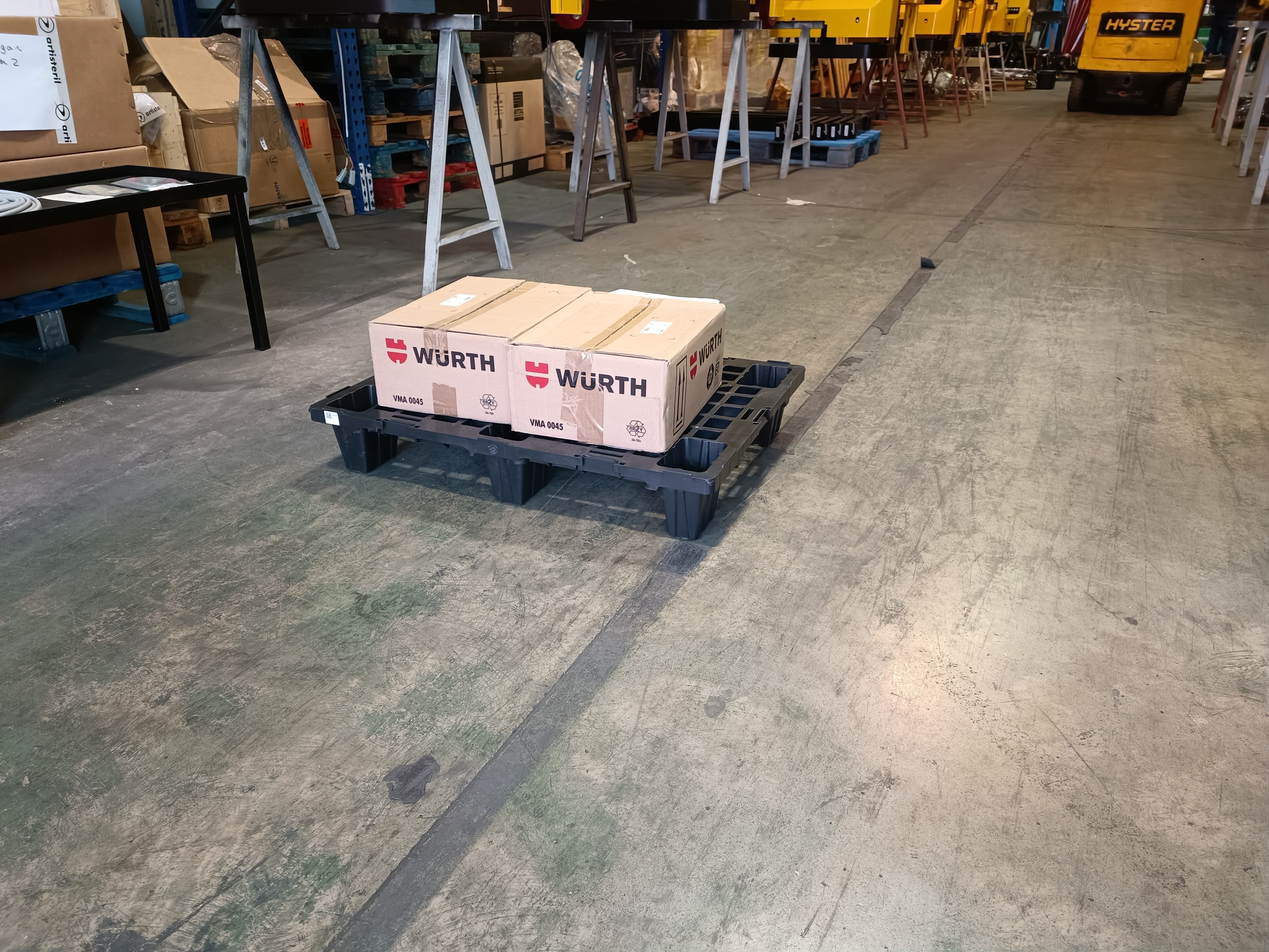block: (665, 472, 721, 544), (320, 413, 372, 478), (482, 441, 525, 514)
front: (312, 405, 720, 552)
hole pallet: (527, 460, 670, 529), (365, 435, 495, 496)
